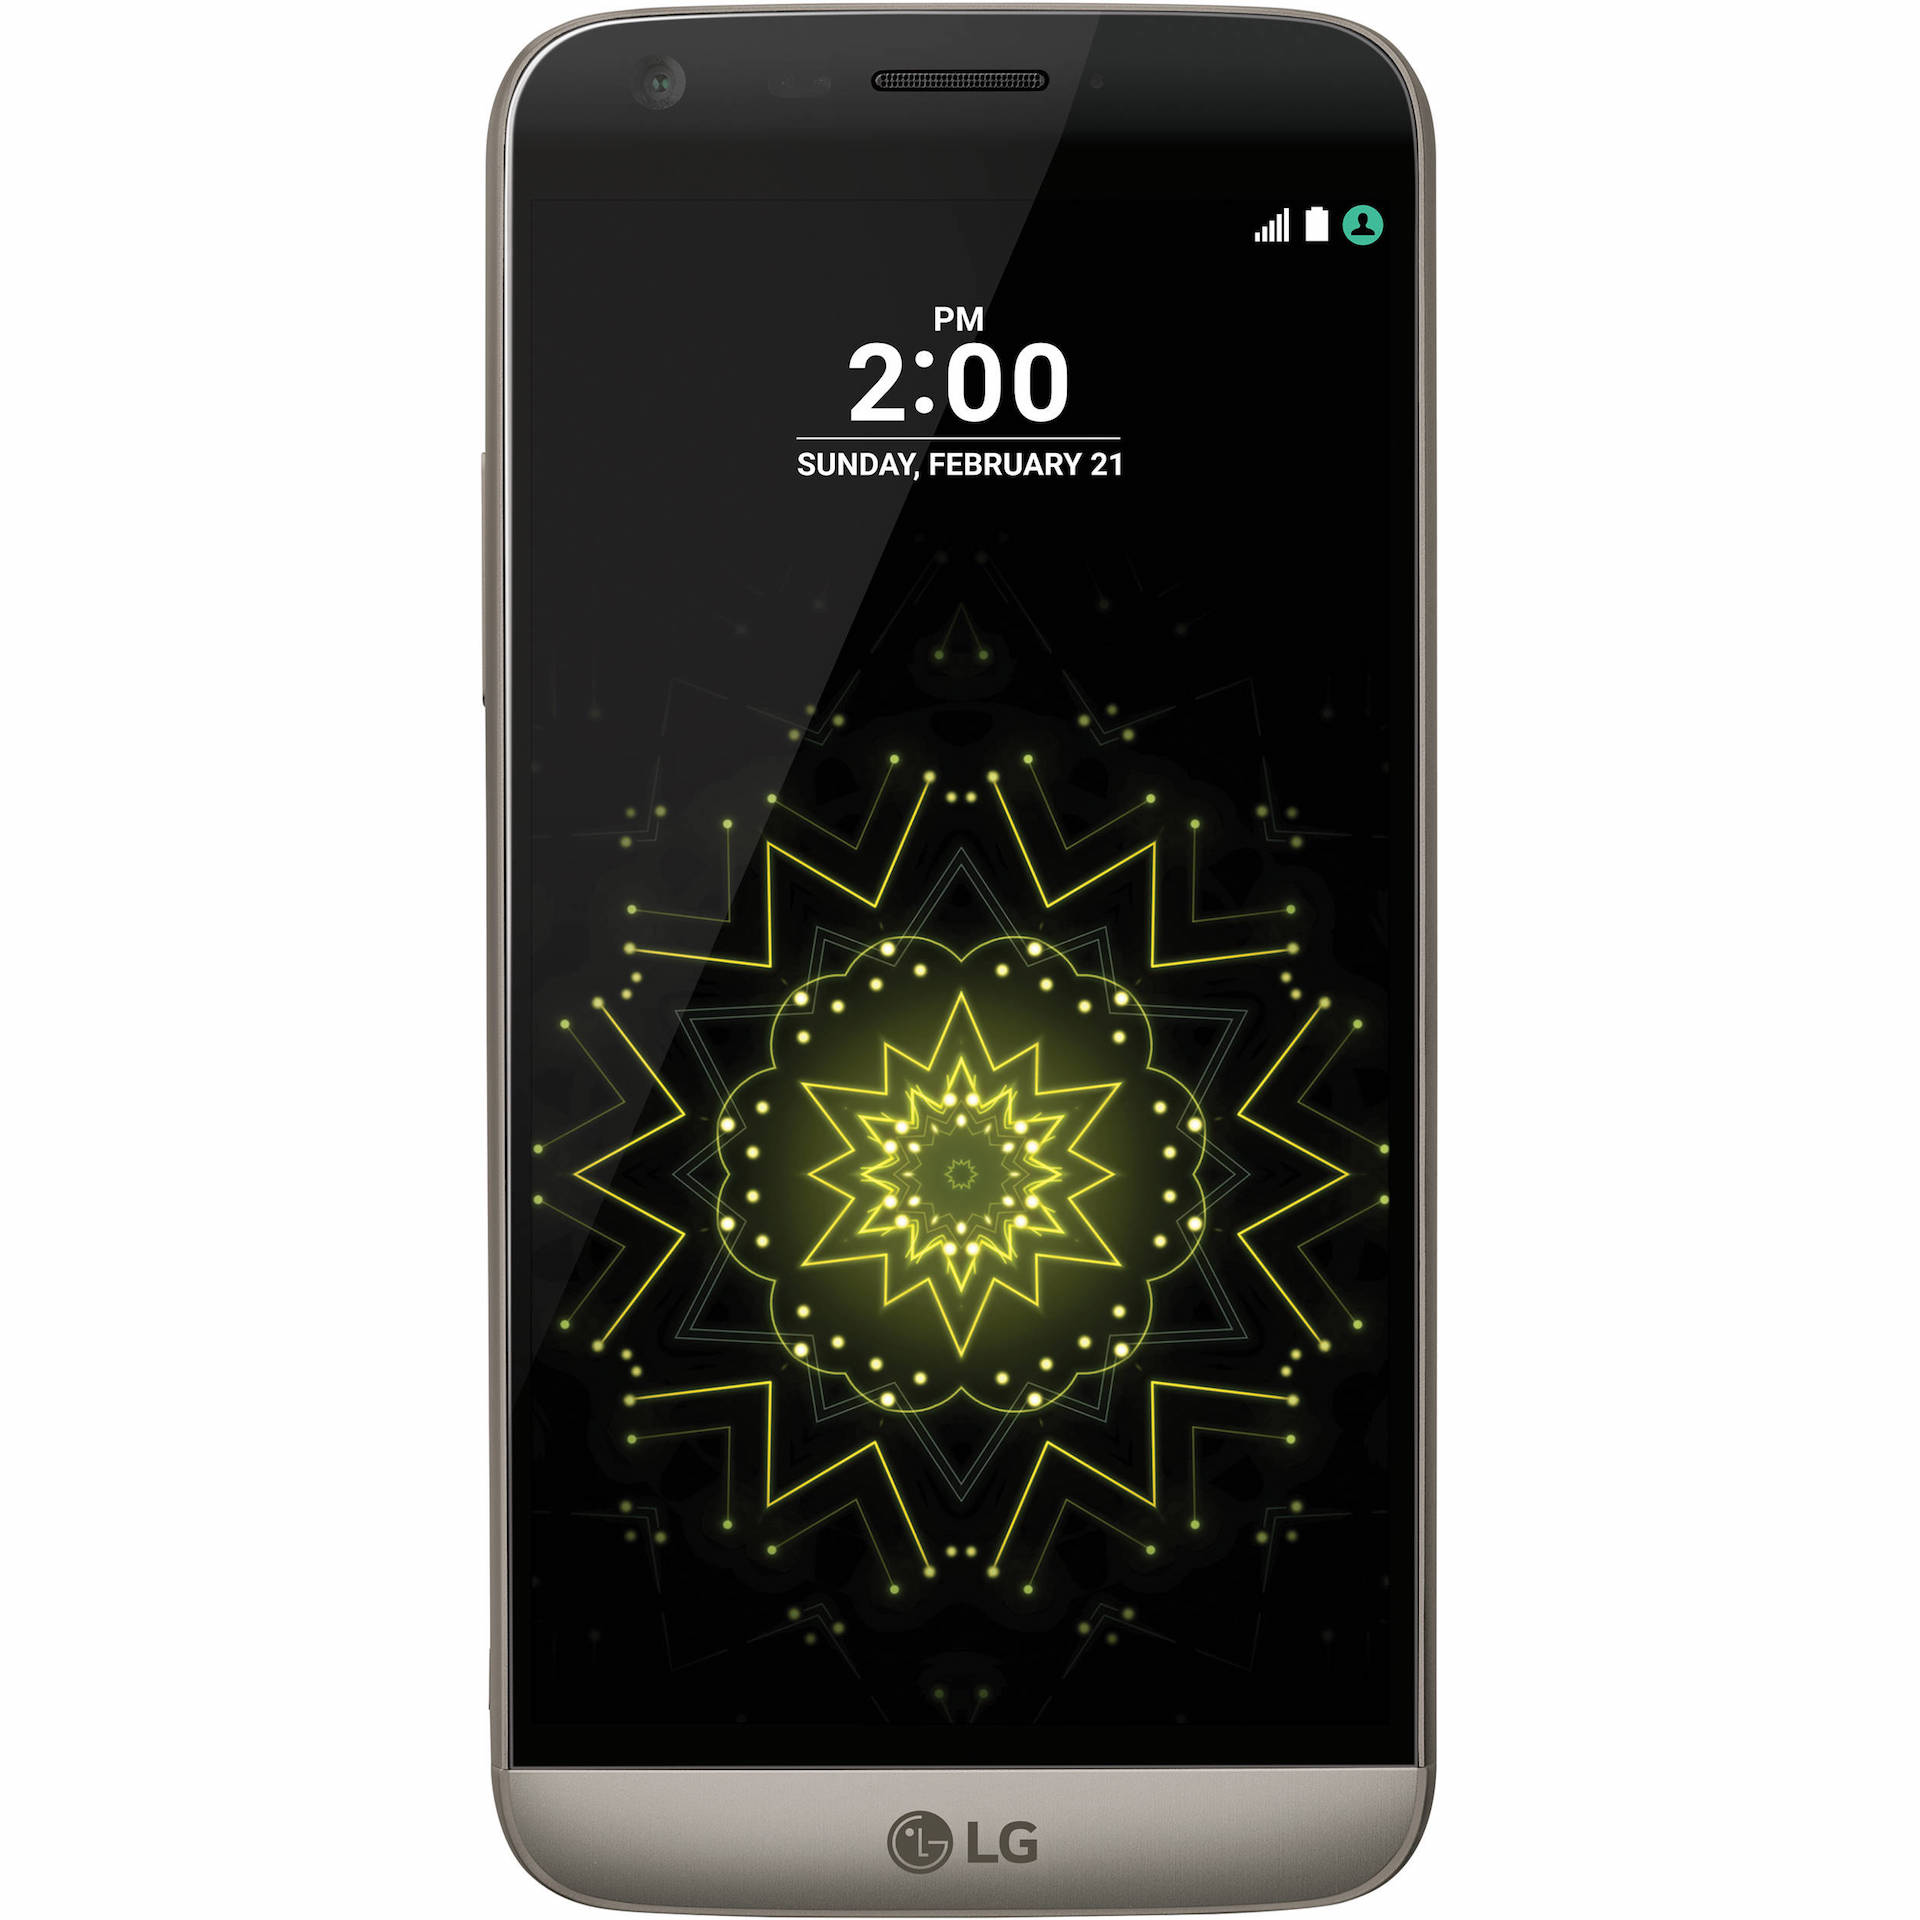smartphone: (478, 5, 1442, 1918)
